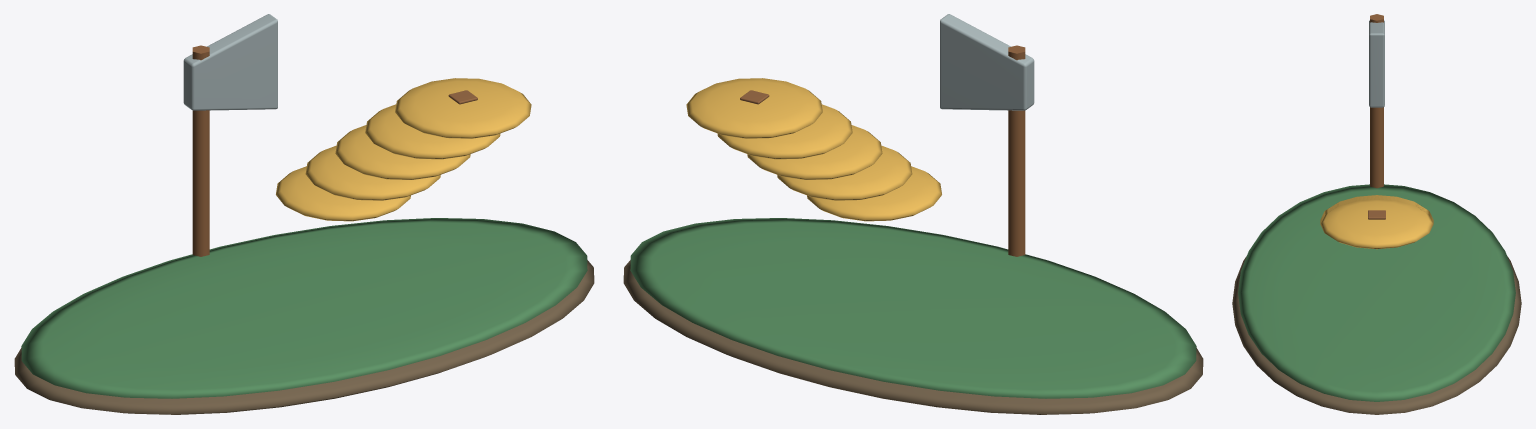
Rendered from work-wages.glb.
The picture shows the model from 3 angles, left to right: view 1: azimuth 30°, elevation 25°; view 2: azimuth 150°, elevation 25°; view 3: azimuth 270°, elevation 25°; orthographic projection. The views are drawn at different scales.
Parts seen in each view (by area): view 1: work-wages_surface_01, work-wages_surface_04, work-wages_surface_00, work-wages_surface_03, work-wages_surface_02; view 2: work-wages_surface_01, work-wages_surface_04, work-wages_surface_00, work-wages_surface_03, work-wages_surface_02; view 3: work-wages_surface_01, work-wages_surface_00, work-wages_surface_04, work-wages_surface_02, work-wages_surface_03.
Part boxes in pixels (left/top/right/bottom): work-wages_surface_01: left=21, top=218, right=587, bottom=398; work-wages_surface_04: left=276, top=78, right=531, bottom=221; work-wages_surface_00: left=14, top=260, right=594, bottom=414; work-wages_surface_03: left=183, top=14, right=277, bottom=110; work-wages_surface_02: left=192, top=45, right=477, bottom=256; work-wages_surface_01: left=630, top=218, right=1196, bottom=398; work-wages_surface_04: left=686, top=78, right=941, bottom=221; work-wages_surface_00: left=623, top=260, right=1203, bottom=414; work-wages_surface_03: left=940, top=14, right=1034, bottom=110; work-wages_surface_02: left=740, top=45, right=1025, bottom=256; work-wages_surface_01: left=1238, top=184, right=1515, bottom=401; work-wages_surface_00: left=1232, top=256, right=1521, bottom=414; work-wages_surface_04: left=1320, top=195, right=1433, bottom=249; work-wages_surface_02: left=1368, top=14, right=1385, bottom=219; work-wages_surface_03: left=1369, top=20, right=1384, bottom=107.
Bounding box in the file's own units: 4.56 × 2.58 × 2.5.
